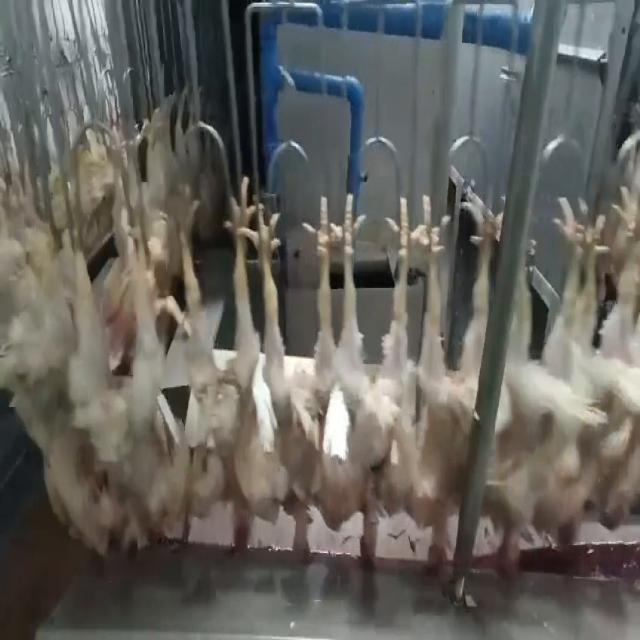chicken: (486, 201, 597, 581), (405, 166, 503, 584), (164, 167, 253, 569), (252, 177, 340, 574), (75, 174, 164, 560), (325, 190, 414, 574), (586, 174, 640, 537)
